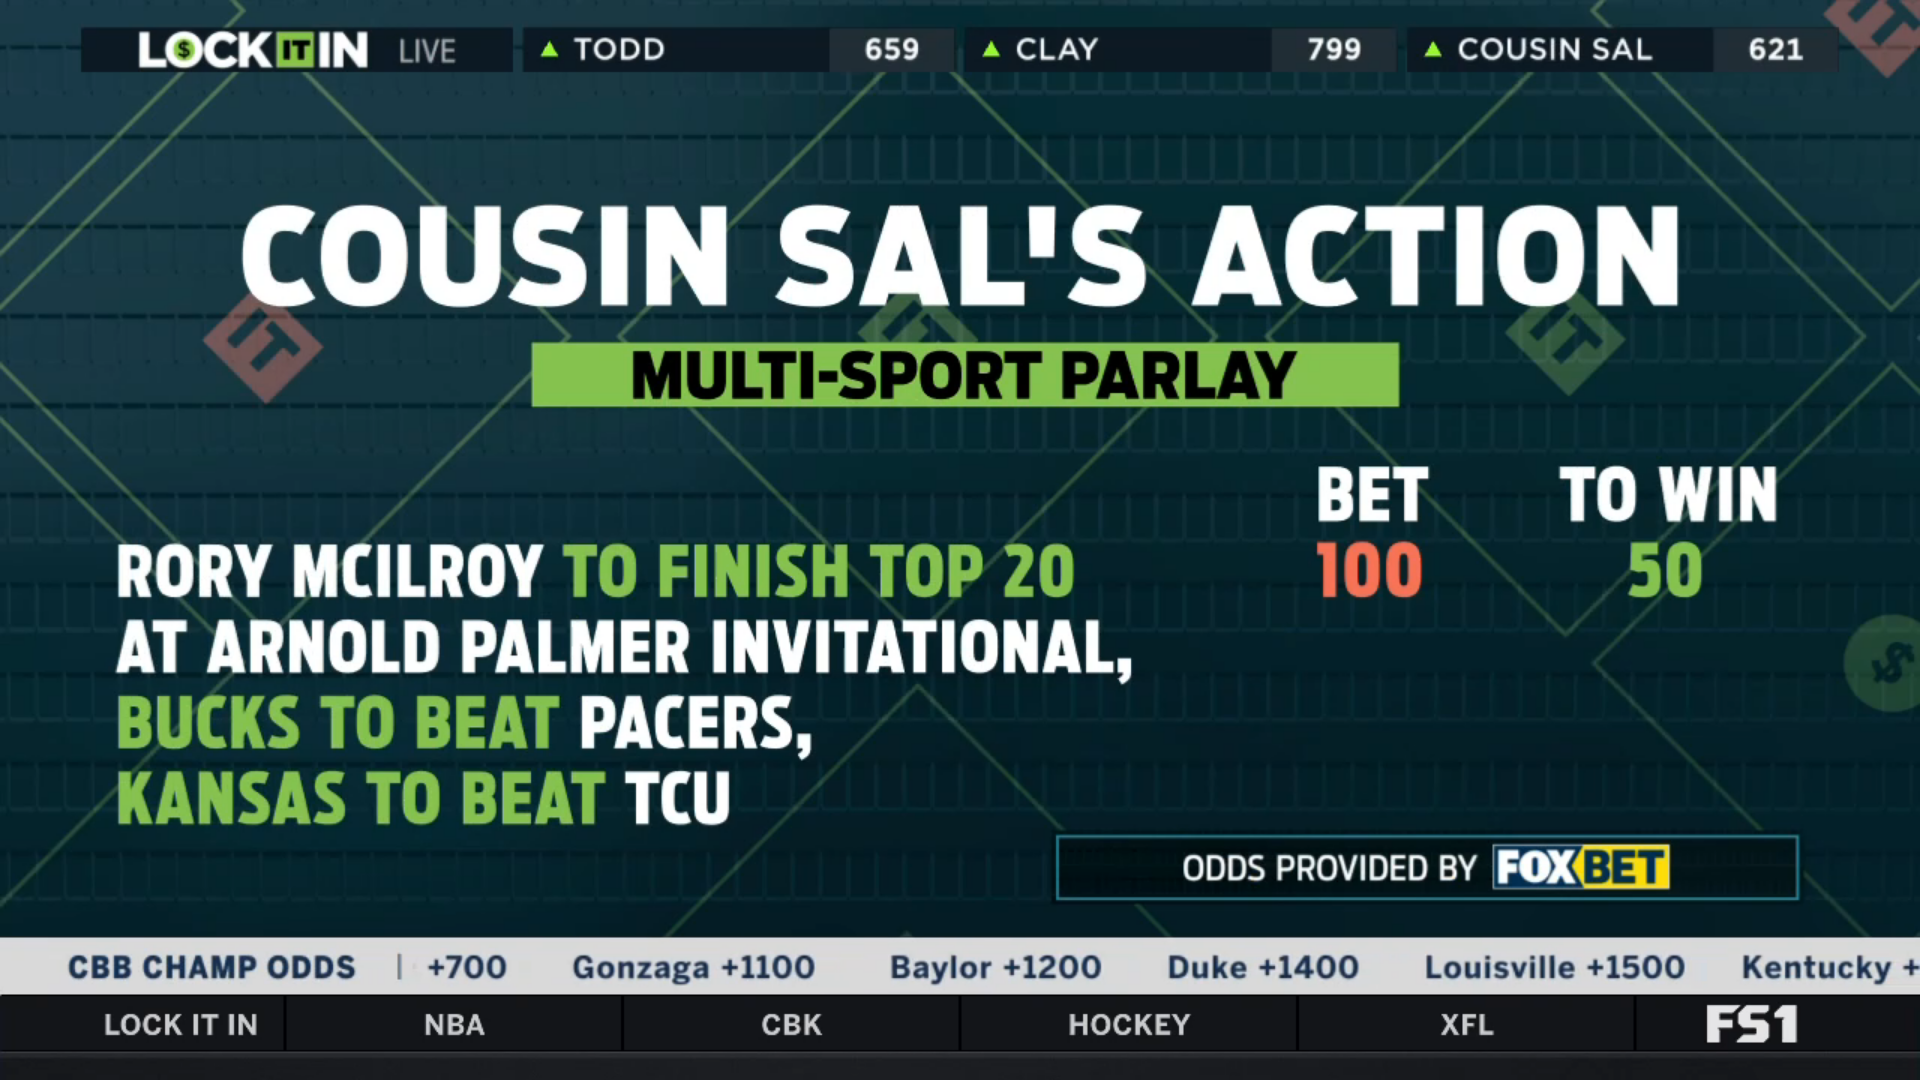Bet: (104, 531, 1139, 835)
Bet Amount: (1304, 447, 1443, 615)
Subtitle: (521, 332, 1408, 417)
Title: (235, 191, 1695, 324)
To Win: (1548, 454, 1787, 608)
Top Bar: (73, 17, 1847, 83)
